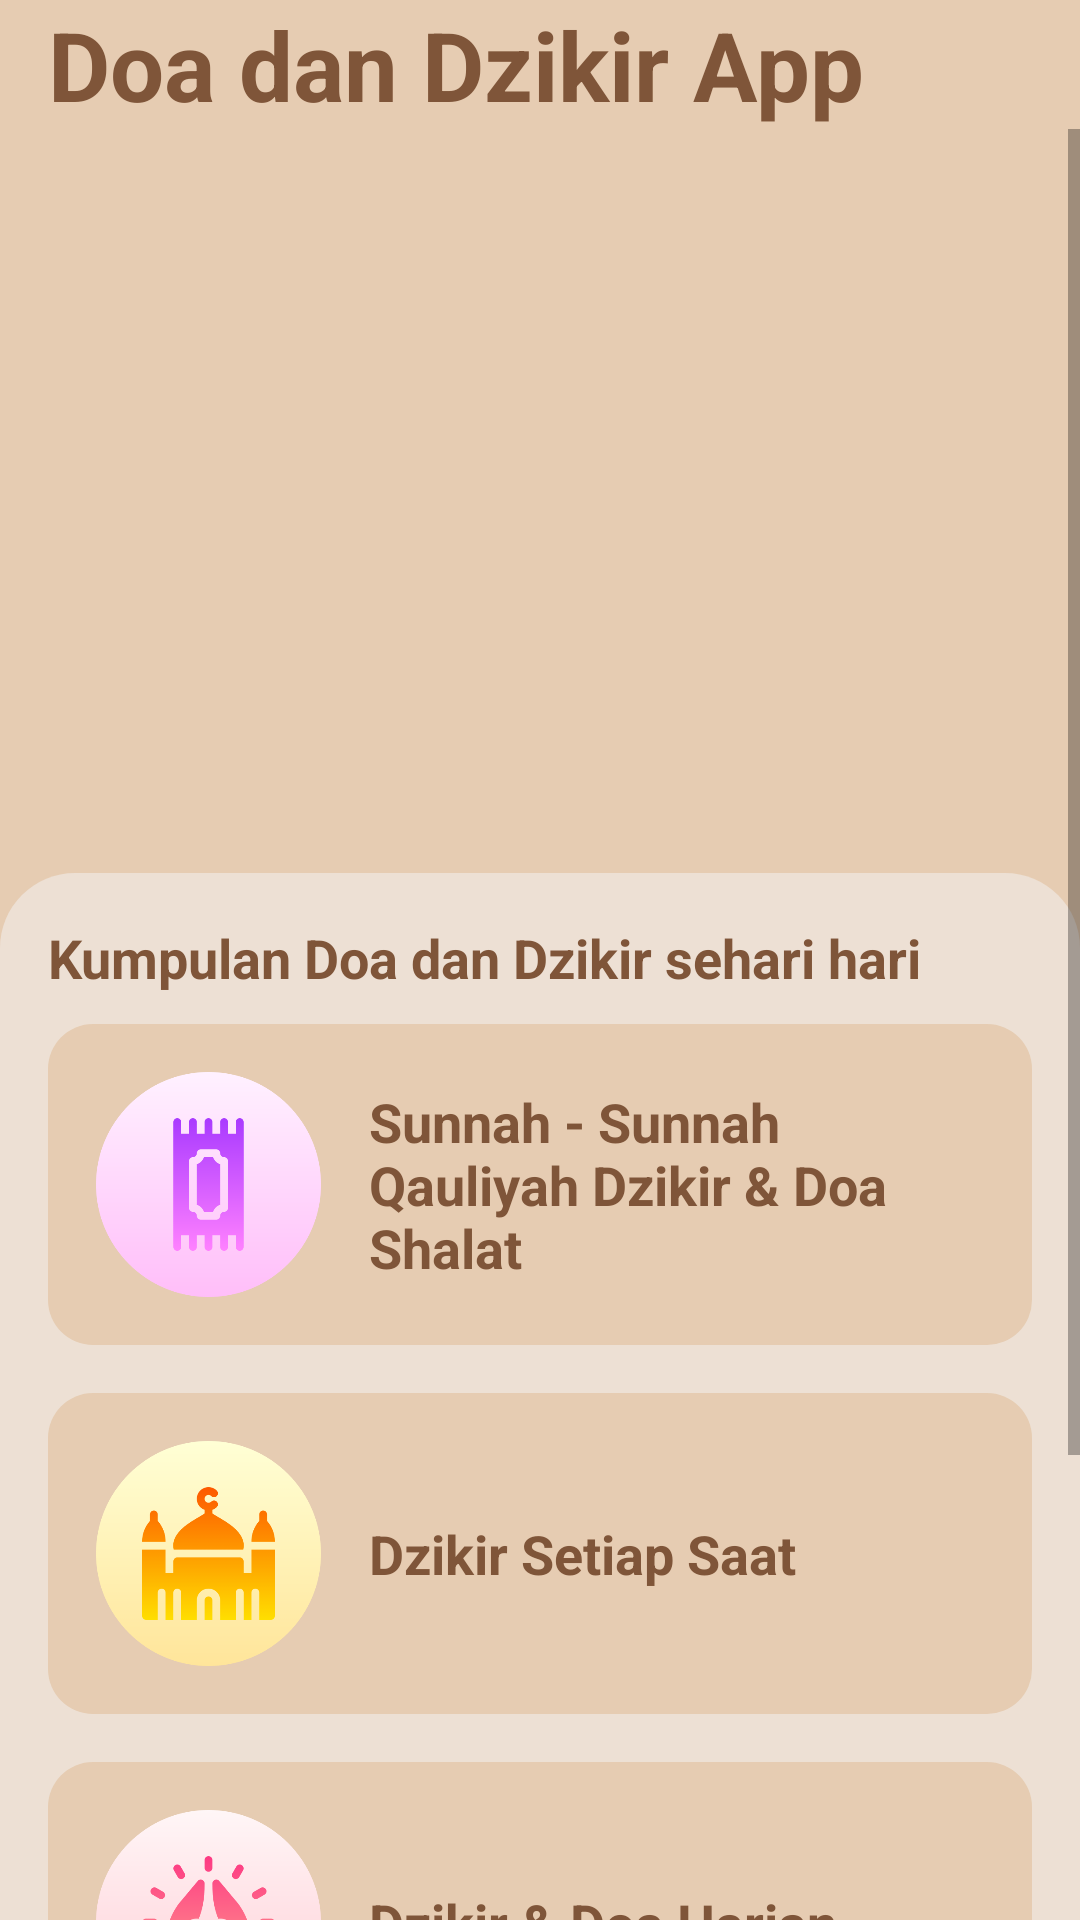

Where icons sit on this 1080px x 1920px app screen, as [x1=x1, y1=y1, x2=x2, y2=y2]:
mat: [x1=96, y1=1072, x2=321, y2=1297]
mosque: [x1=96, y1=1441, x2=321, y2=1666]
